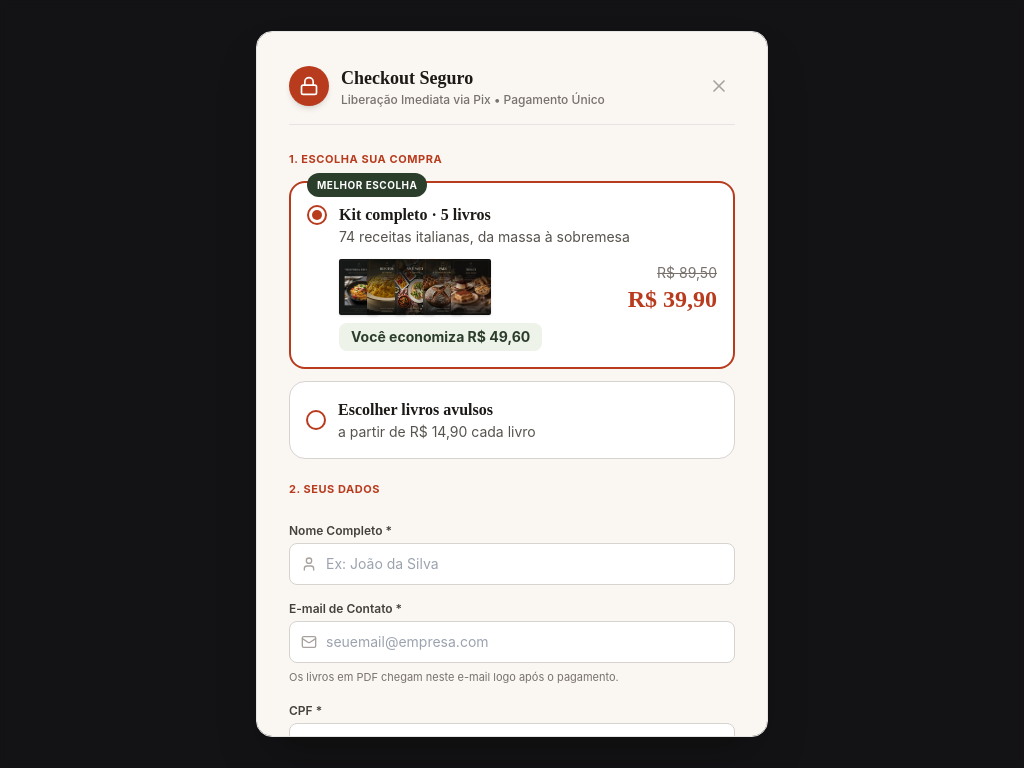
NORQVA-0063 — checkout do kit: kit completo ou livros avulsos › avulsos: sem livro o botão fica desligado; com livros, total e sugestão do kit somam no navegador
Click the button with test id "choice-avulso" at point(415, 409), box [289,381,735,459]
(page scrolled)
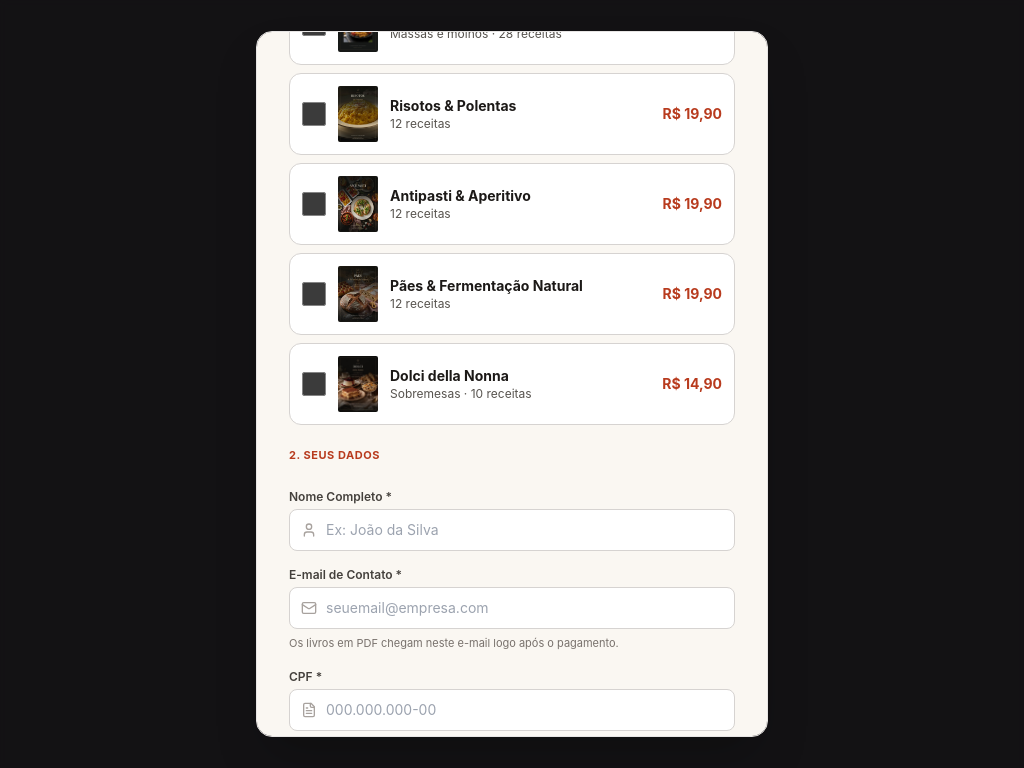
Click the checkbox with test id "choice-book-dolci" at point(314, 384), box [302,372,326,396]
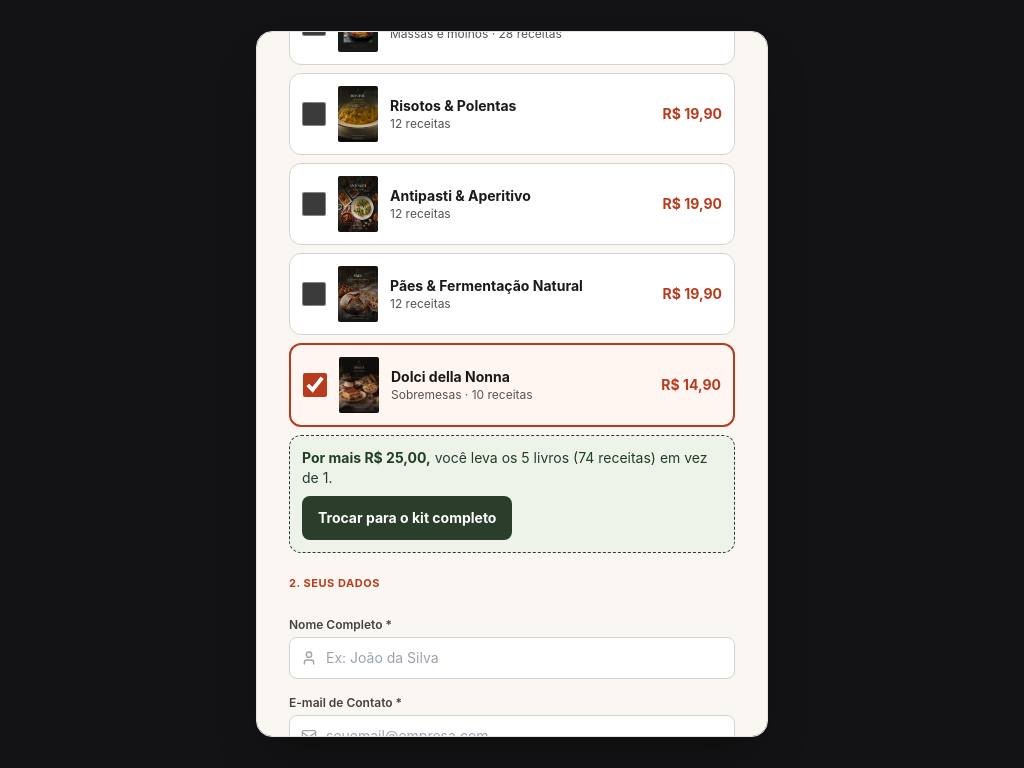
Click the checkbox with test id "choice-book-paes" at point(314, 294), box [302,282,326,306]
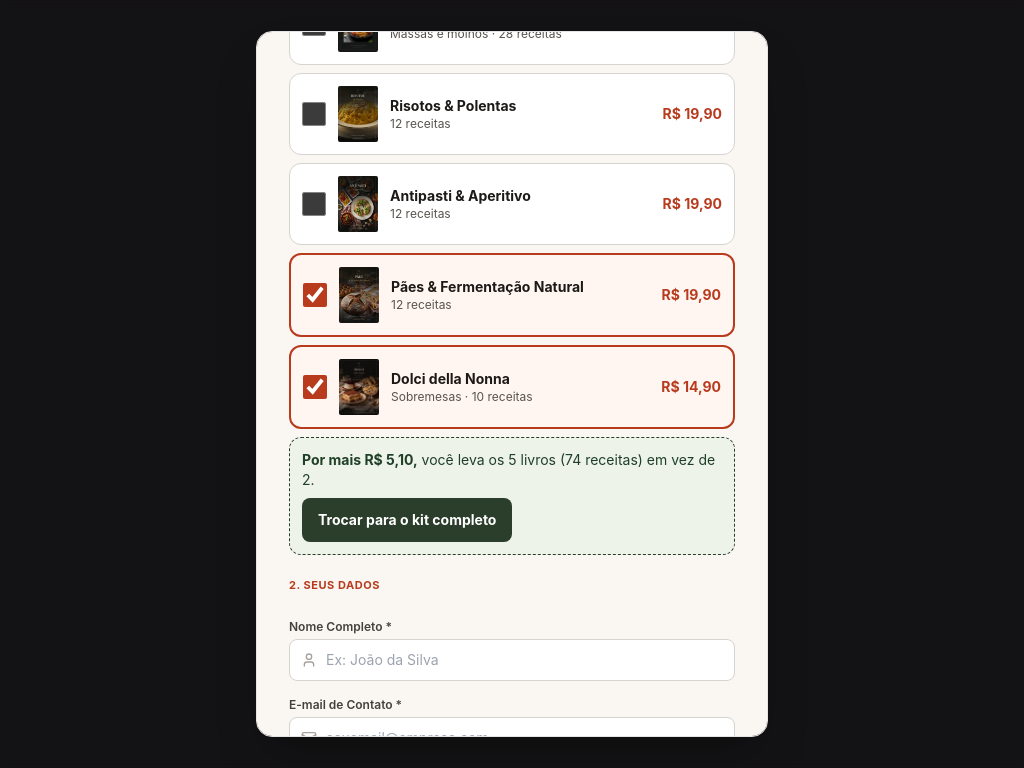
Expected: the element with test id "choice-nudge" shows "Por mais R$ 5,10, você leva os 5 livros (74 receitas) em vez de 2.", [289,437,735,555]
Click the button "Trocar para o kit completo" at point(407, 520), box [302,498,512,542]
(page scrolled)
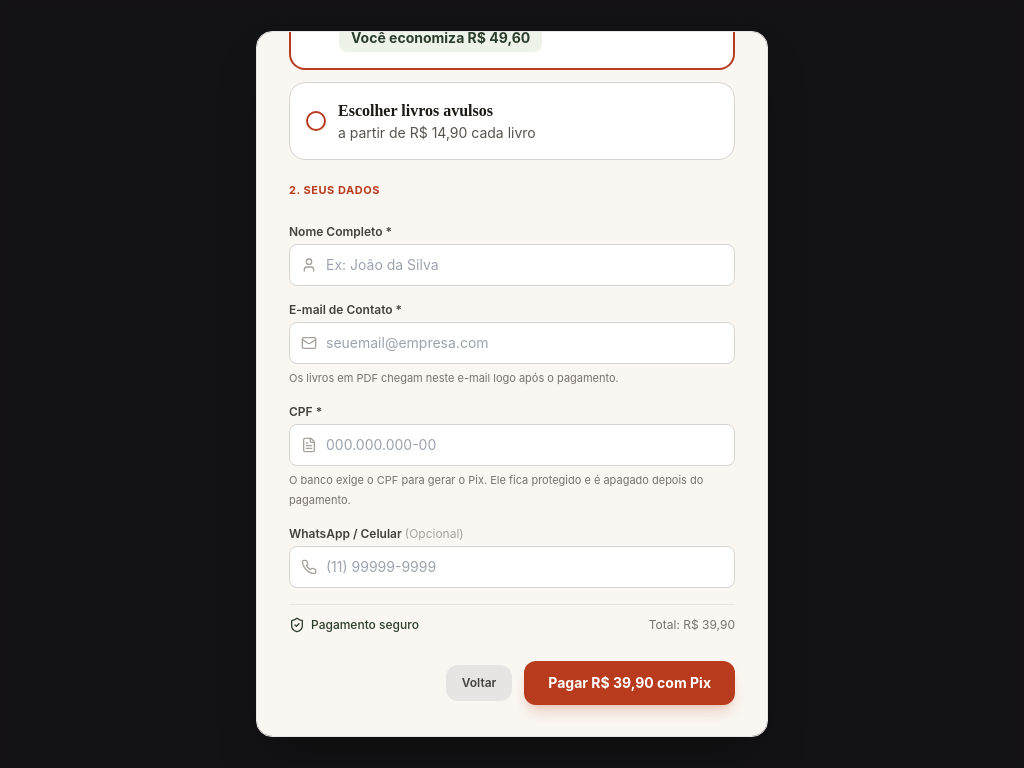
Expected: the text with test id "checkout-total" shows "R$ 39,90", [649,617,735,633]
